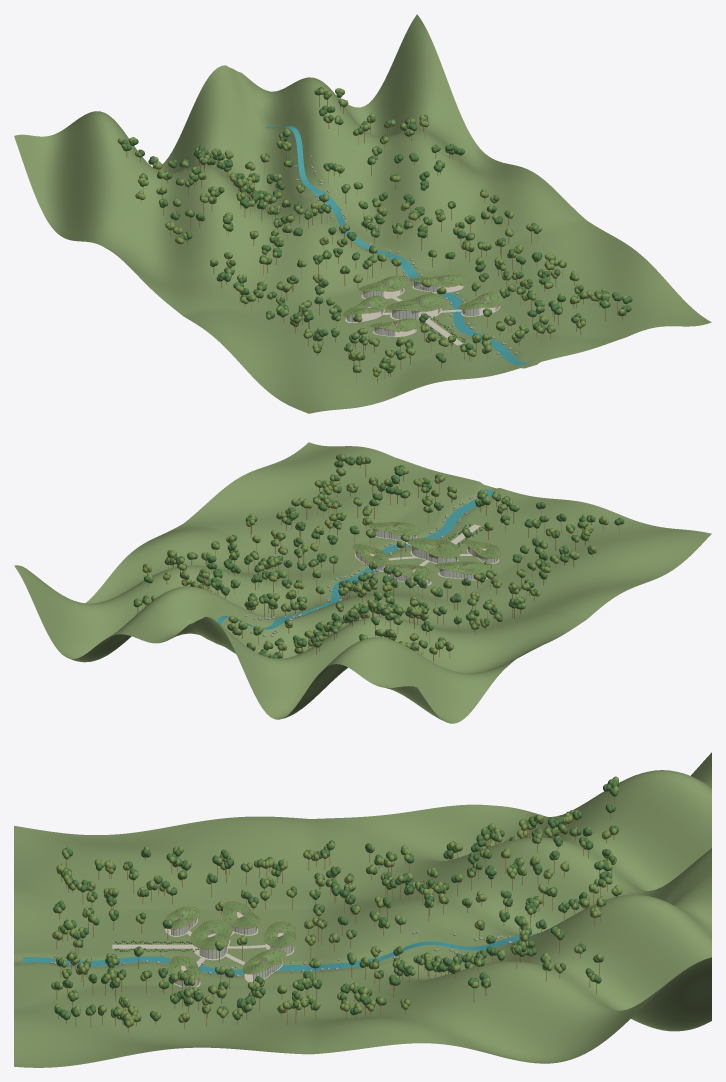
Rendered from nature-campus.glb.
3 renders of one model, top to bottom at view 1: azimuth 30°, elevation 25°; view 2: azimuth 150°, elevation 25°; view 3: azimuth 270°, elevation 25°, orthographic. The views are drawn at different scales.
Visible parts, largest first — view 1: Continuous sculpted valley, Layered forest foliage.001, Layered forest foliage, Forest trunks, Flowing valley river, Sculpted timber roof edge, Reception curved living roof; view 2: Continuous sculpted valley, Layered forest foliage.001, Layered forest foliage, Forest trunks, Flowing valley river, Sculpted timber roof edge, Reception curved living roof, Digital Products & Growth curved living roof, Roof meadow clusters, Cloud, Reliability & Trust curved living roof, Roof meadow clusters.001; view 3: Continuous sculpted valley, Layered forest foliage.001, Layered forest foliage, Forest trunks, Flowing valley river, Reception curved living roof, Sculpted timber roof edge, Digital Products & Growth curved living roof, AI, Data & Automation curved living roof, Immersive & Creative curved living roof, Roof meadow clusters, Roof meadow clusters.001 (+1 smaller).
Boxes of the visible parts, x1,y1,x2,y2 form: Continuous sculpted valley: (14,14,711,413); Layered forest foliage.001: (120,87,632,373); Layered forest foliage: (117,88,626,376); Forest trunks: (123,95,627,382); Flowing valley river: (264,126,527,365); Sculpted timber roof edge: (342,274,502,331); Reception curved living roof: (387,293,444,310); Continuous sculpted valley: (14,442,711,723); Layered forest foliage.001: (133,454,624,658); Layered forest foliage: (136,454,619,658); Forest trunks: (137,464,619,661); Flowing valley river: (217,489,493,629); Sculpted timber roof edge: (352,522,500,579); Reception curved living roof: (408,538,460,557); Digital Products & Growth curved living roof: (435,561,491,574); Roof meadow clusters: (357,522,497,577); Cloud, Reliability & Trust curved living roof: (368,522,419,535); Roof meadow clusters.001: (355,523,498,578); Continuous sculpted valley: (14,752,711,1067); Layered forest foliage.001: (53,778,619,1025); Layered forest foliage: (51,776,622,1027); Forest trunks: (56,791,616,1032); Flowing valley river: (23,934,535,975); Reception curved living roof: (190,919,232,949); Sculpted timber roof edge: (163,900,296,981); Digital Products & Growth curved living roof: (223,901,259,928); AI, Data & Automation curved living roof: (263,921,295,946); Immersive & Creative curved living roof: (242,949,285,973); Roof meadow clusters: (171,901,294,977); Roof meadow clusters.001: (169,904,294,975).
Size of the model in its own units: 297 by 67.49 by 376.
